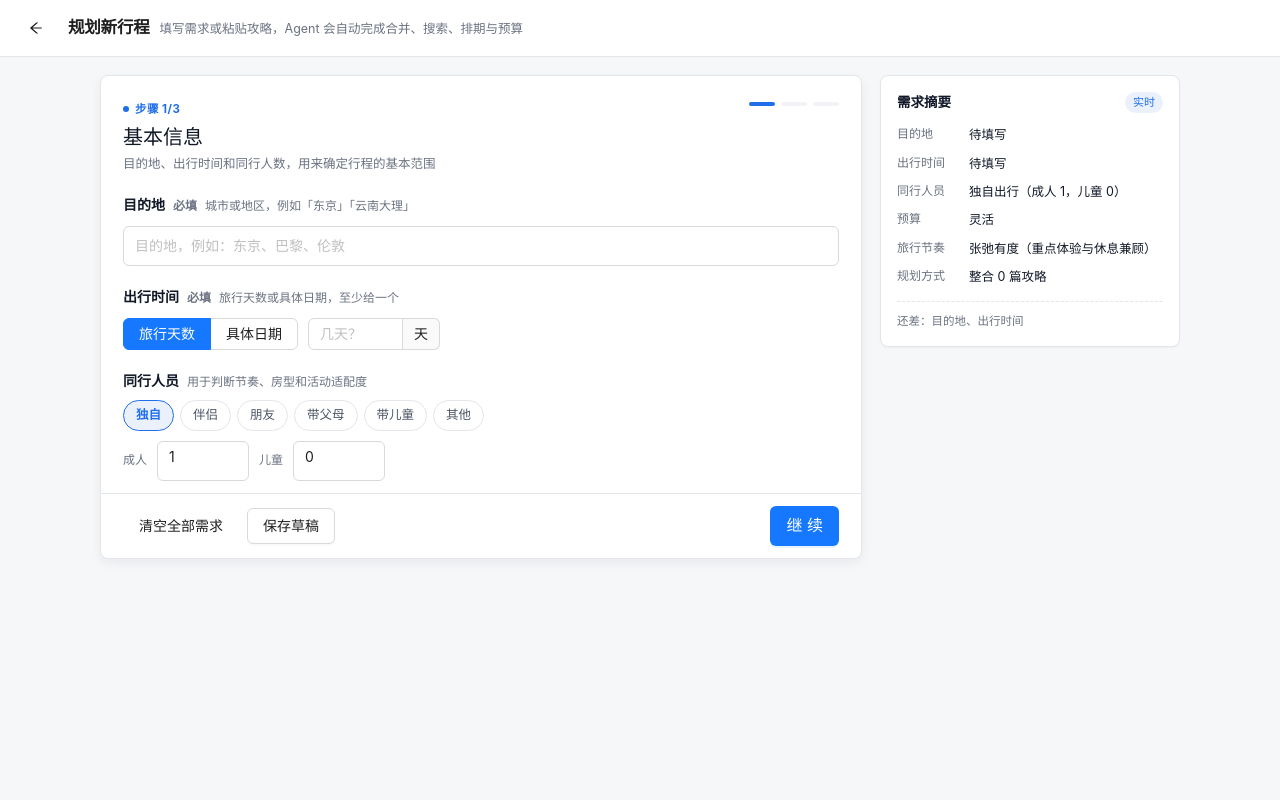
Planner · 三步流程与门禁 › 第 1 步未填目的地时停在原步并提示，不发请求
Click the button with test id "planner-next": coordinates (805, 526) [770,506,839,546]
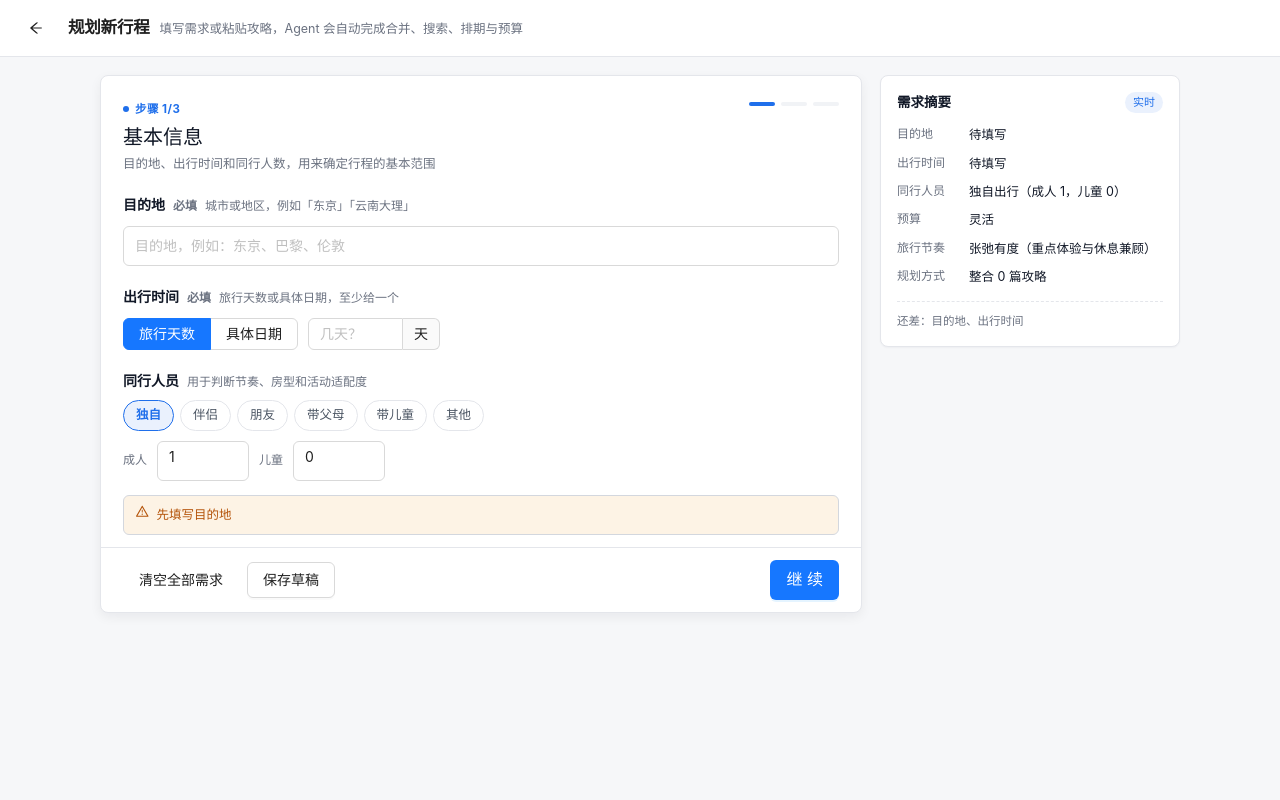
Expected: the text with test id "planner-step-indicator" reads "步骤 1/3", [123,100,180,118]
Expected: the message with test id "planner-required-hint" reads "先填写目的地", [156,507,232,522]
